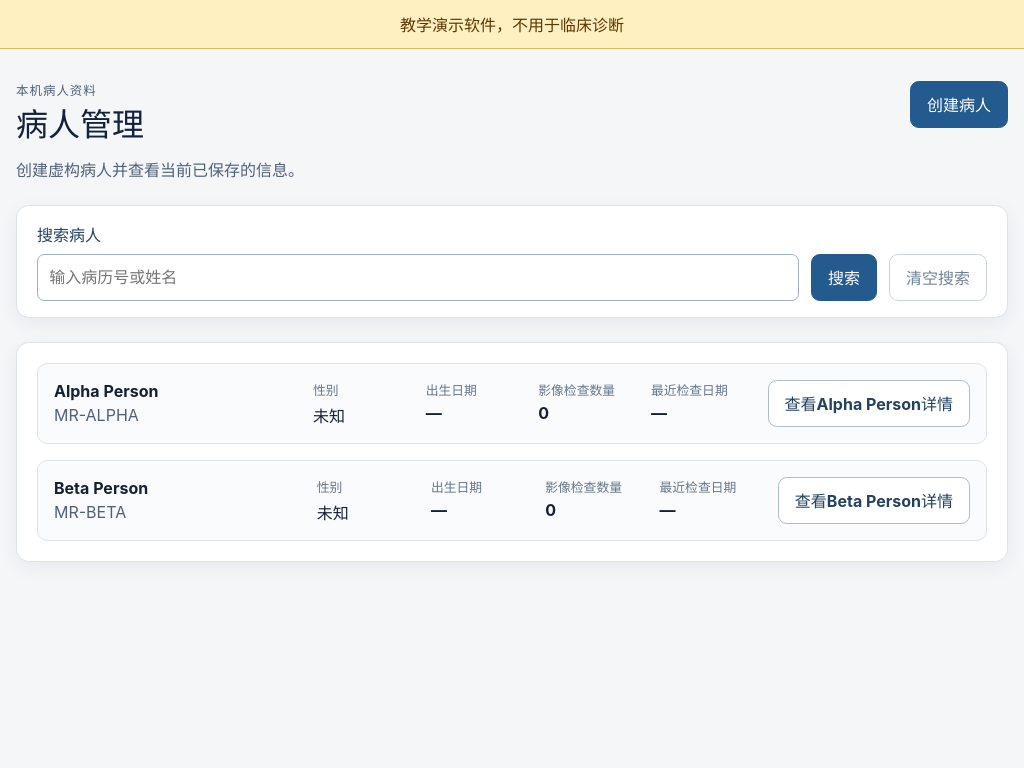
Test: PatientManagementPage search flow › does not let a late old response replace the latest search results
This screenshot has width=1024, height=768.
expect the text "Alpha Person" is shown: met, box [54, 381, 158, 401]
Type "old" into the field labelled "搜索病人" at point(418, 277), box [37, 254, 799, 301]
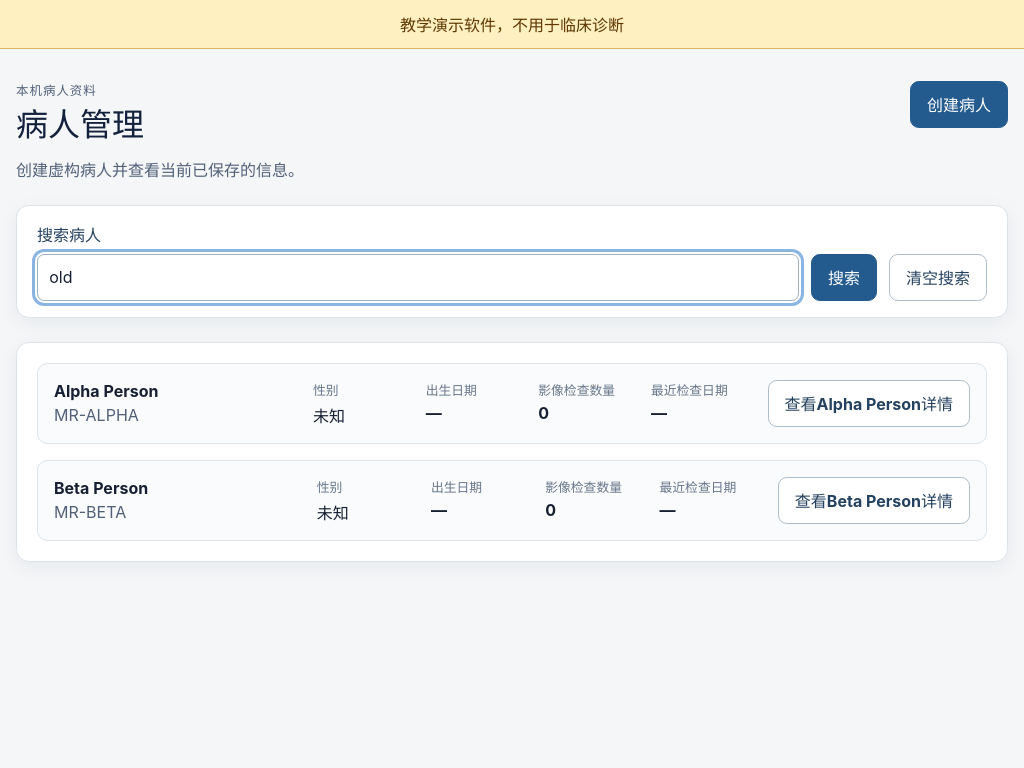
Click the button "搜索" at point(844, 277), box [811, 254, 877, 301]
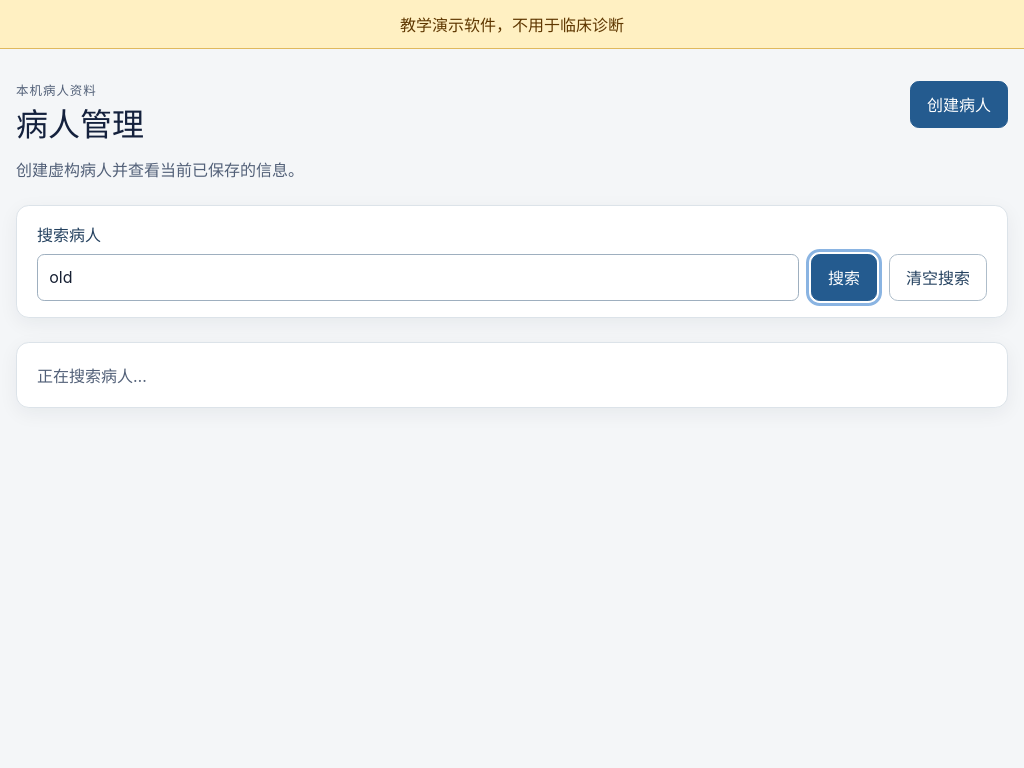
Replace the text in the field labelled "搜索病人" with "latest" at point(418, 277), box [37, 254, 799, 301]
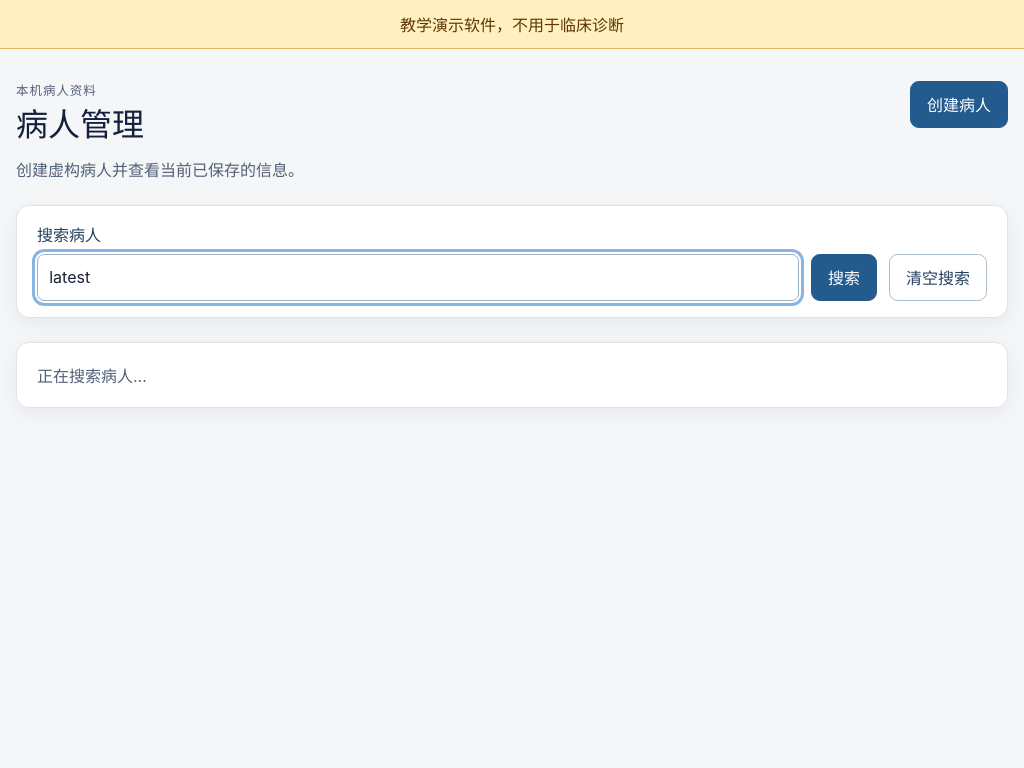
Click the button "搜索" at point(844, 277), box [811, 254, 877, 301]
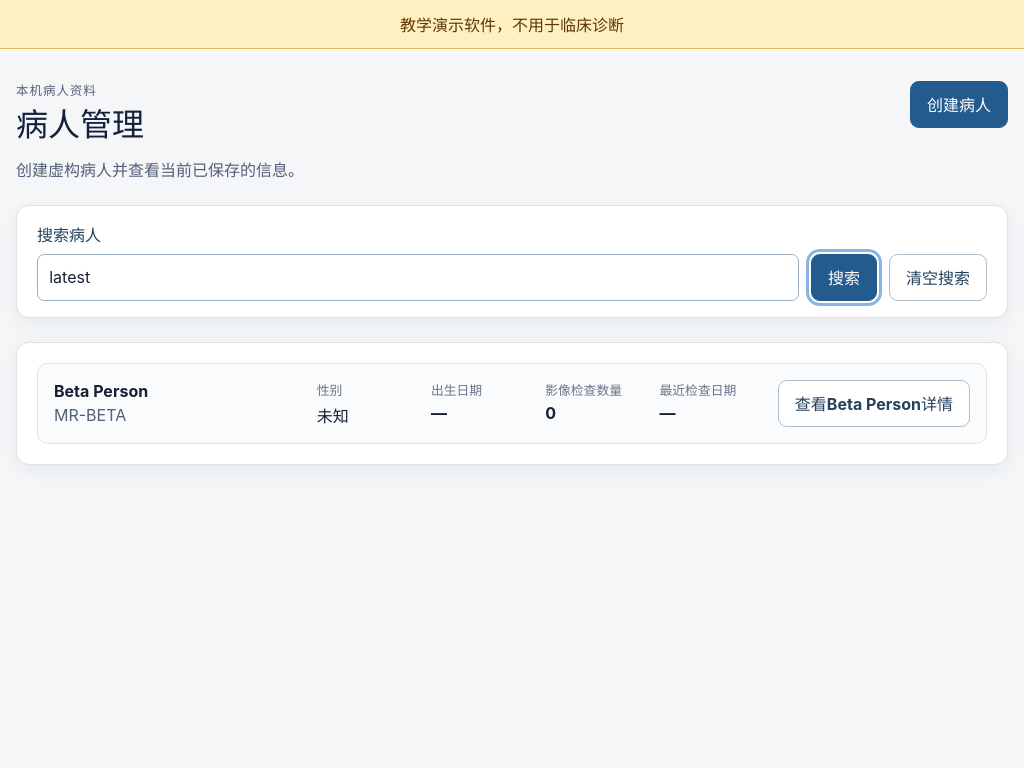
expect the text "Alpha Person" is not shown: met
expect the text "Beta Person" is shown: met, box [54, 381, 148, 401]
